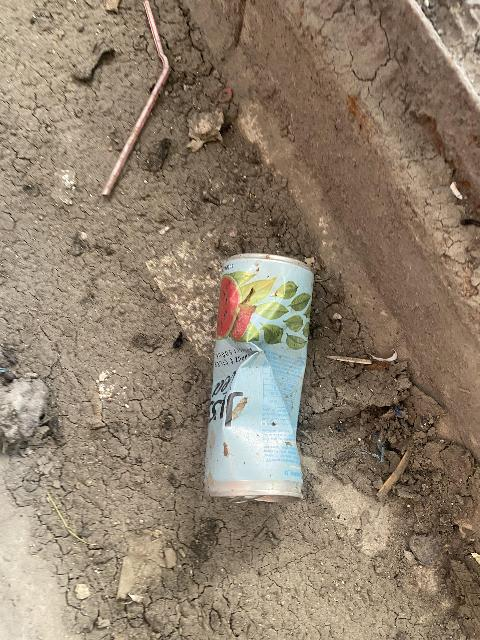Metal: (202, 244, 321, 505)
